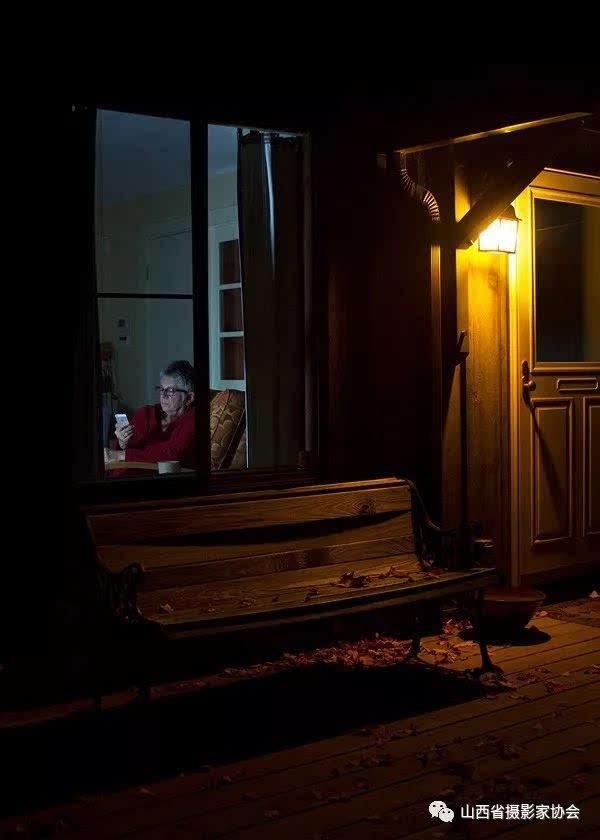face: (155, 373, 187, 419)
specialarea: (160, 387, 173, 396)
